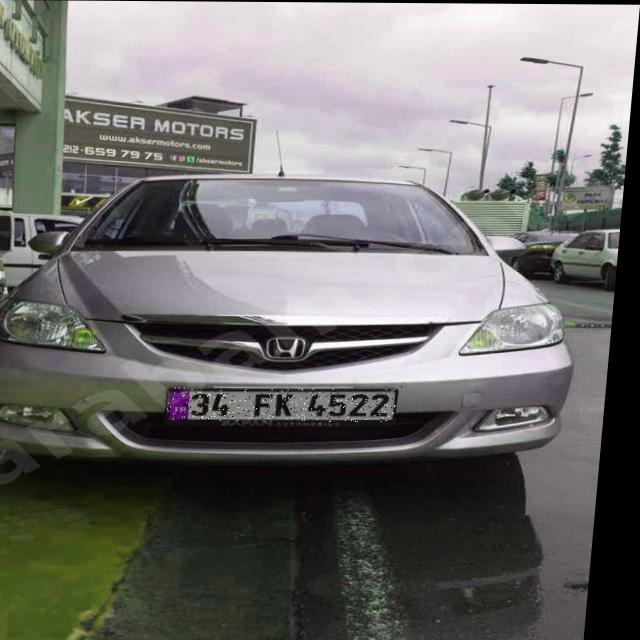license_plate: (174, 387, 405, 422)
